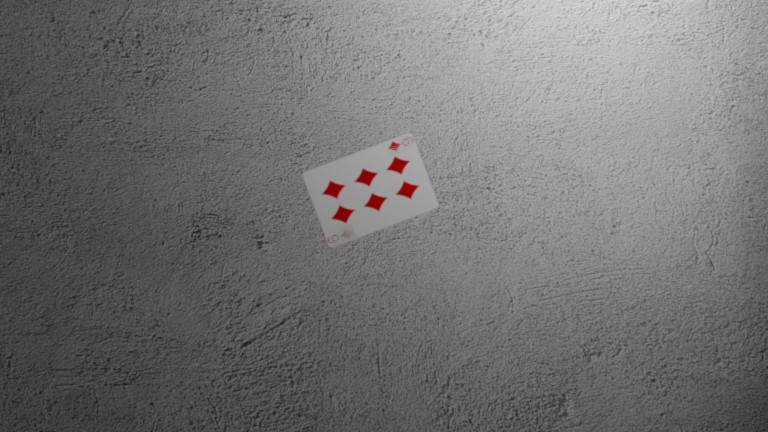6_of_diamonds: (384, 133, 415, 157), (326, 224, 357, 248)
